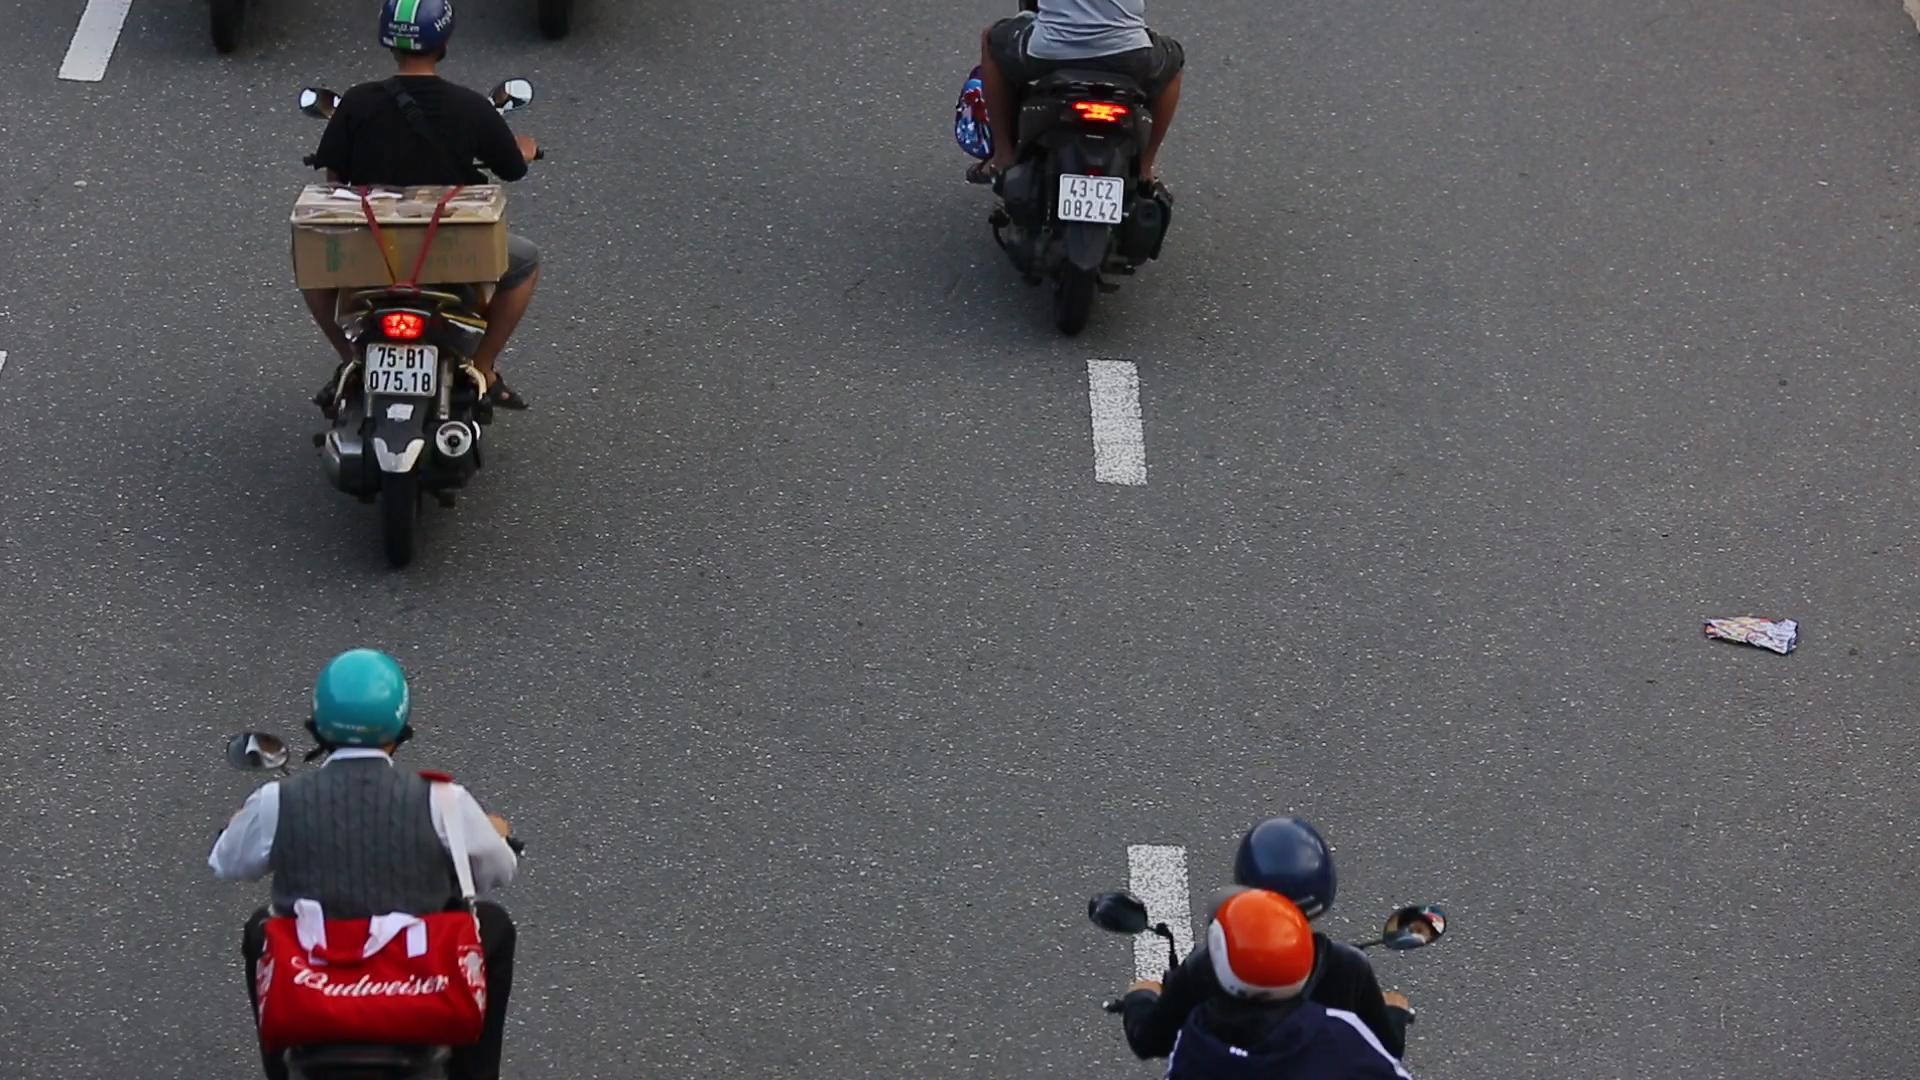motobike: (285, 0, 566, 560)
